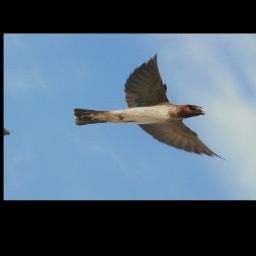Swallow: (42, 50, 236, 178)
